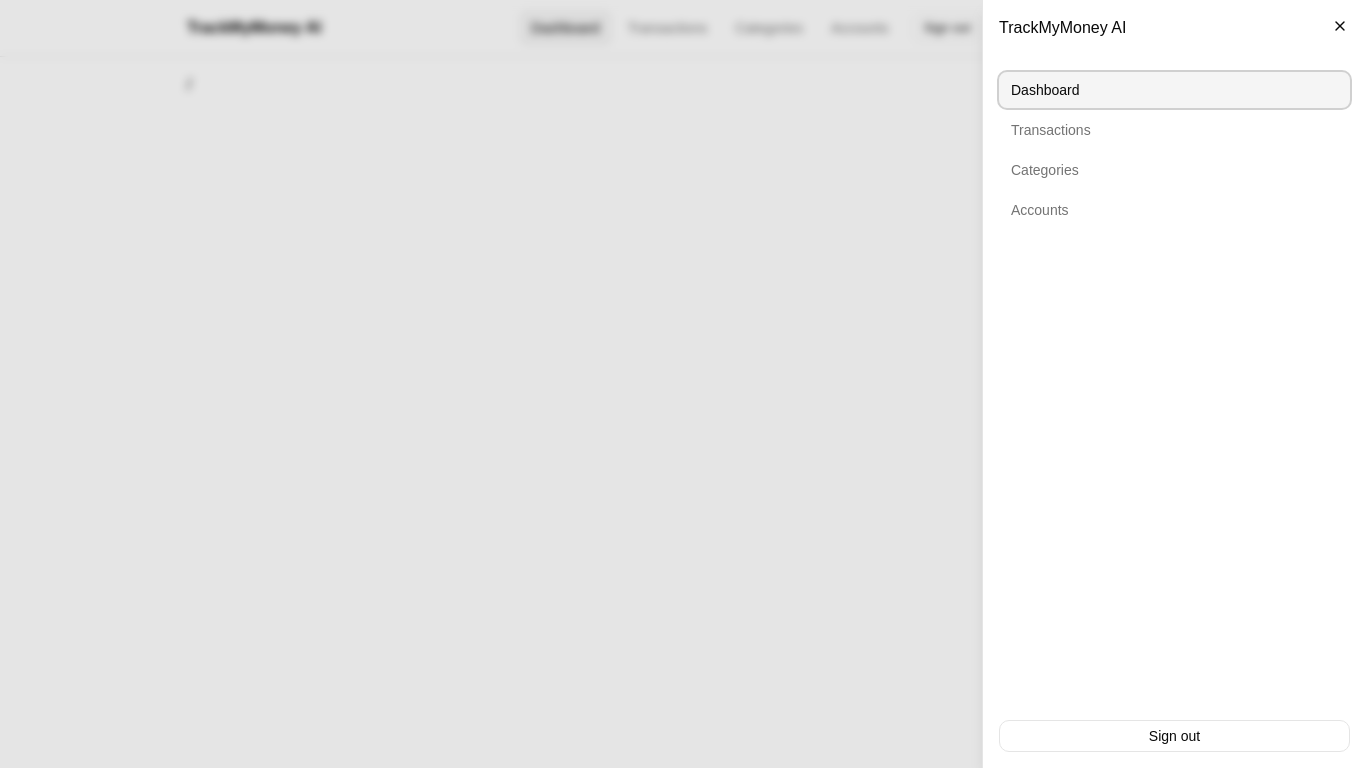
Test: RootLayout › navigates to Accounts, updates the route, and closes the dialog
Earlier steps of the test are not shown.
What coordinates should you click on to do the following:
click the link "Accounts"
I would click on:
 (1040, 210)
Its box is [1011,202,1069,218].
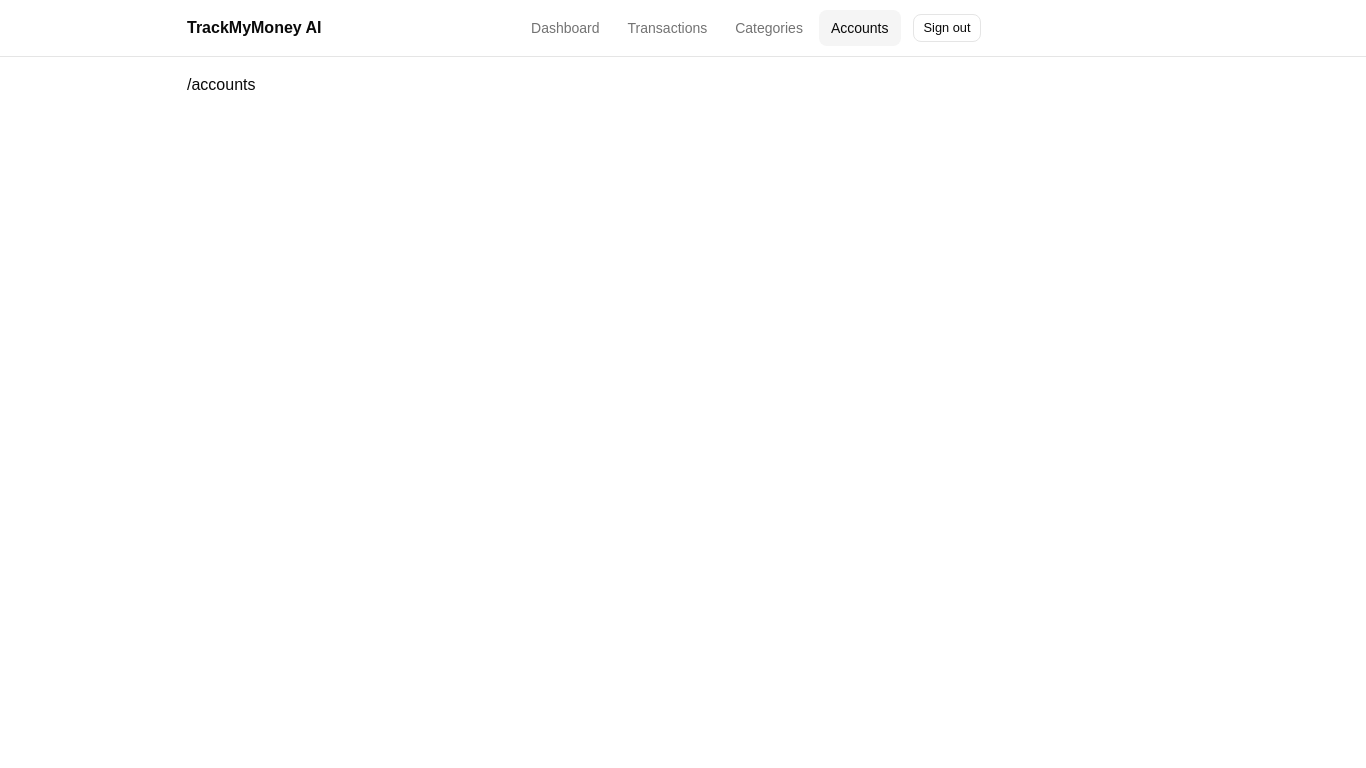
Result: the text with test id "location" reads "/accounts" at [187,76,256,93]
Result: the dialog is gone
